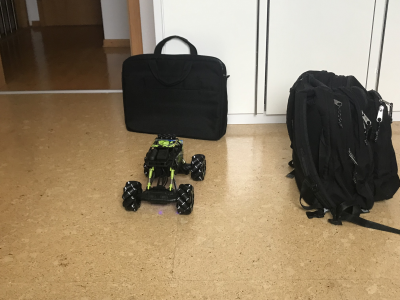remote control car: (119, 131, 209, 216)
